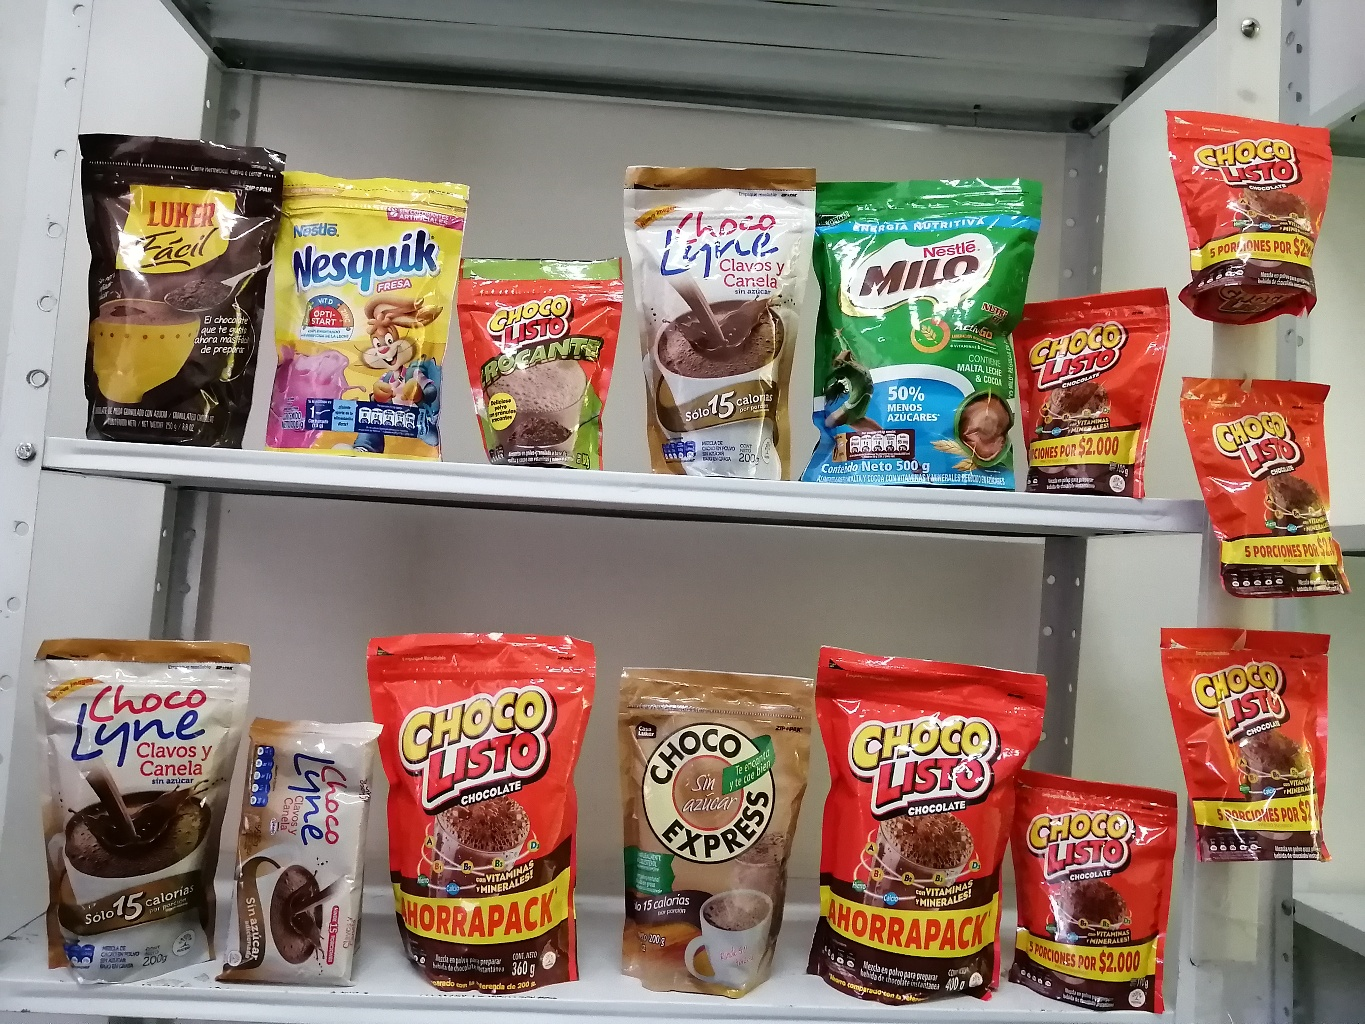COL0170102DYP10000: (461, 246, 623, 458)
COL0170103DYP10000: (1168, 97, 1330, 337)
COL0170103DYP36000: (362, 620, 602, 994)
COL0170103DYP40000: (816, 628, 1025, 1009)
COL0170205DYP50000: (820, 153, 1037, 484)
COL0170305DYP20000: (275, 146, 459, 458)
